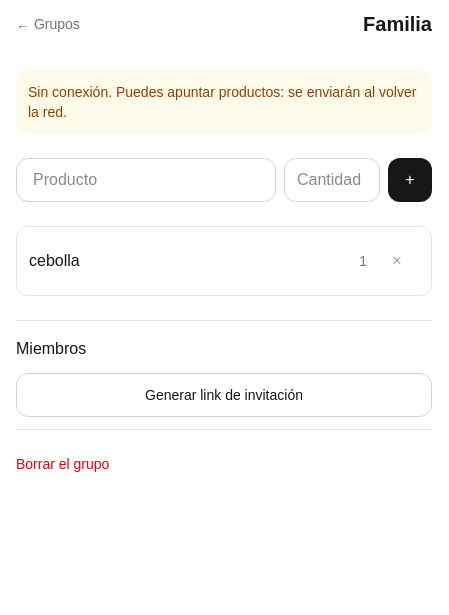
R7 el duplicado se avisa › un 23505 al añadir dice que ya está en la lista
Type "Cebolla" into the field with test id "item-name".
click(146, 180); type("Cebolla")  # box top-left (16, 158), bottom-right (276, 202)
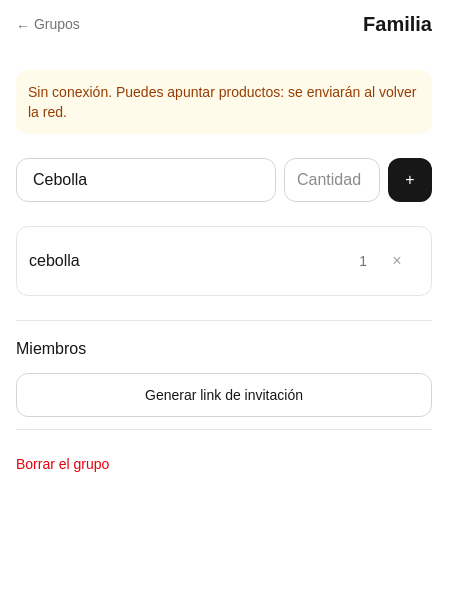
Click the button with test id "add-item".
click(410, 180)  # box top-left (388, 158), bottom-right (432, 202)
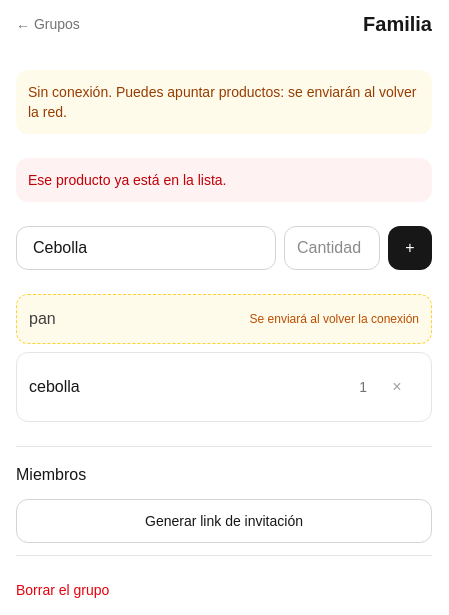
Result: the message with test id "notice" reads "Ese producto ya está en la lista." at top-left (28, 172), bottom-right (226, 188)
